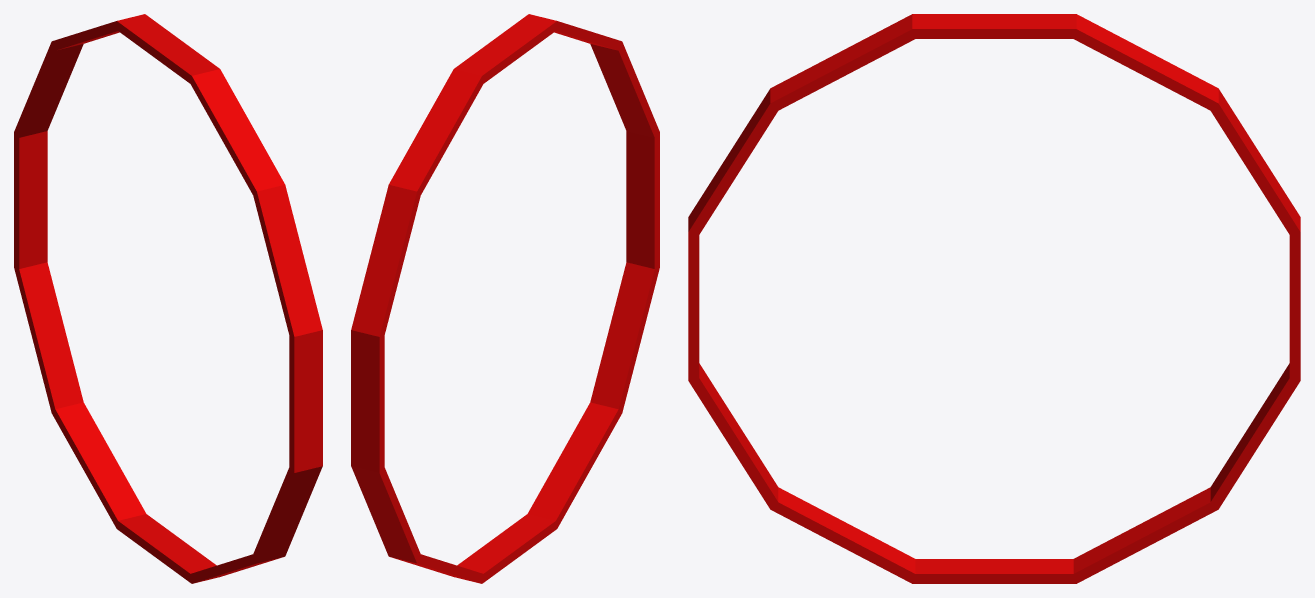
The model's file is Rotate_X.fbx.
The picture shows the model from 3 angles, left to right: view 1: azimuth 30°, elevation 25°; view 2: azimuth 150°, elevation 25°; view 3: azimuth 270°, elevation 25°; orthographic projection. The views are drawn at different scales.
Parts seen in each view (by area): view 1: Rotate_X; view 2: Rotate_X; view 3: Rotate_X.
Part boxes in pixels (x1,y1,x2,y2): Rotate_X: (14, 14, 322, 583); Rotate_X: (351, 14, 659, 583); Rotate_X: (688, 14, 1300, 583).
Size of the model in its own units: 0.0647 by 1.11 by 1.11.
